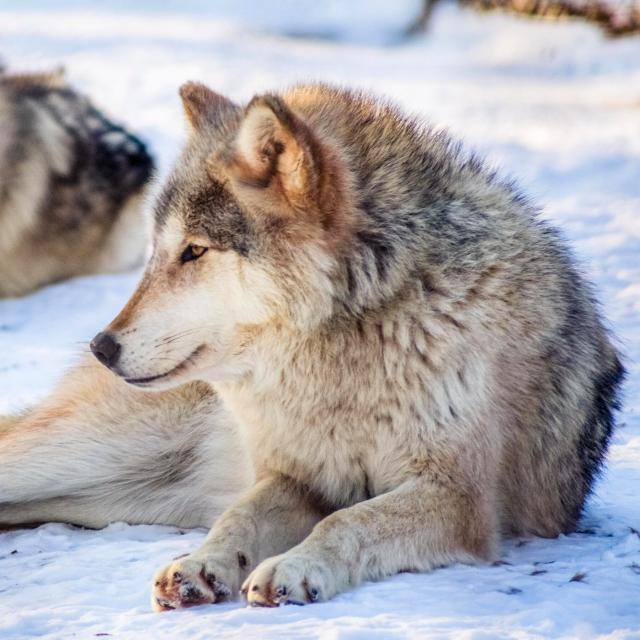wolf: (0, 82, 624, 611)
